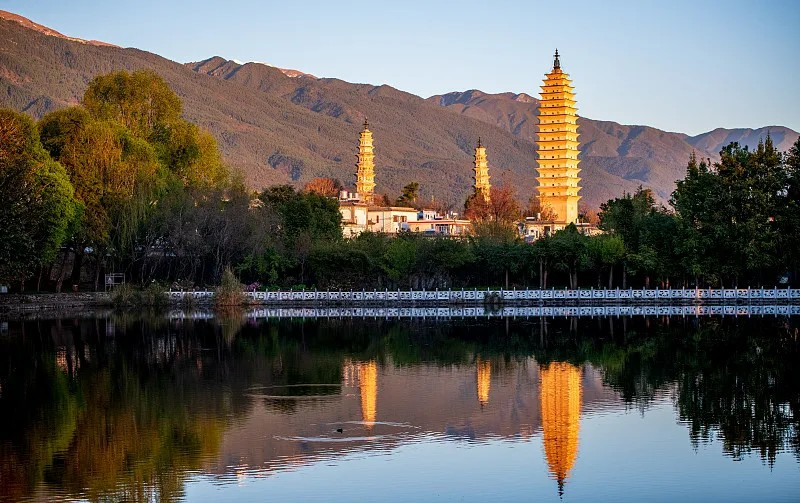ThreePagoda: (535, 48, 583, 223)
